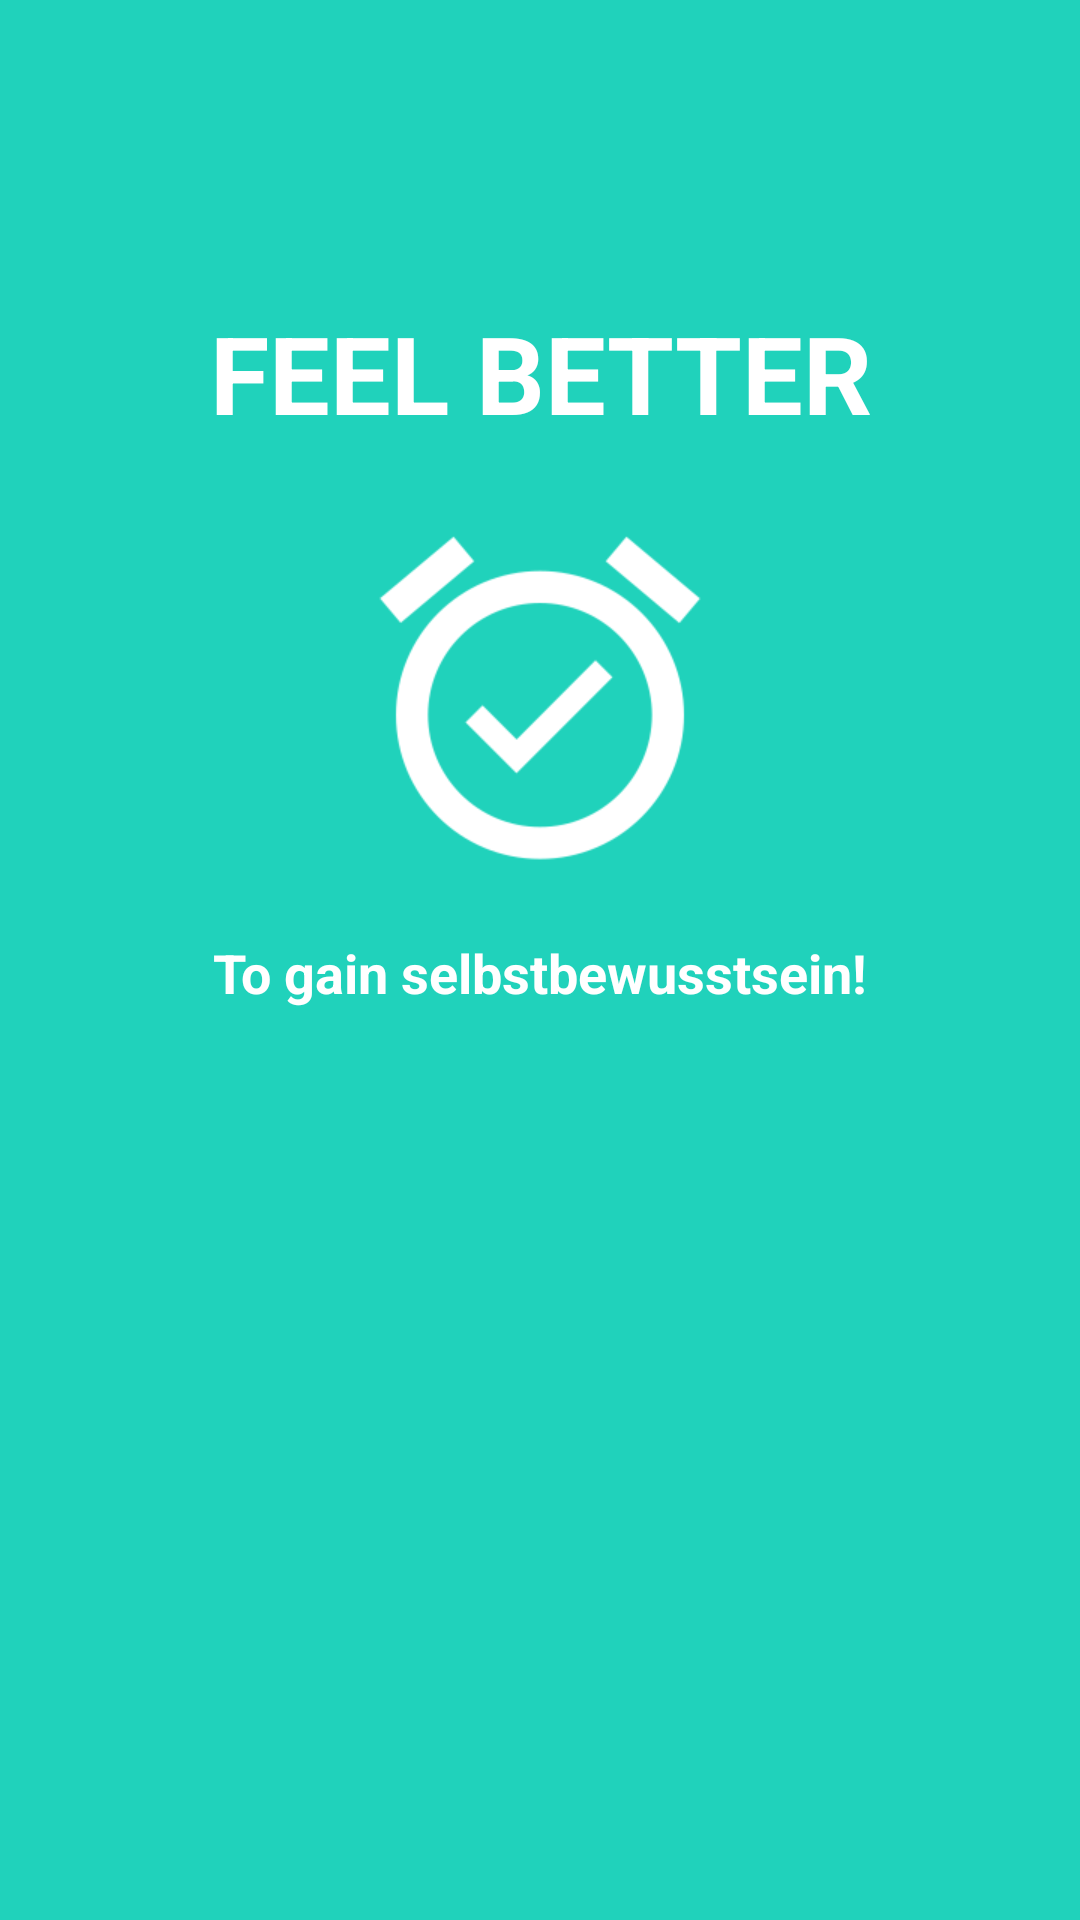

Icons on this 1080w x 1920h Android screen, each with the point to tap as (x=x, y=y):
alarmcheck: (x=540, y=698)
